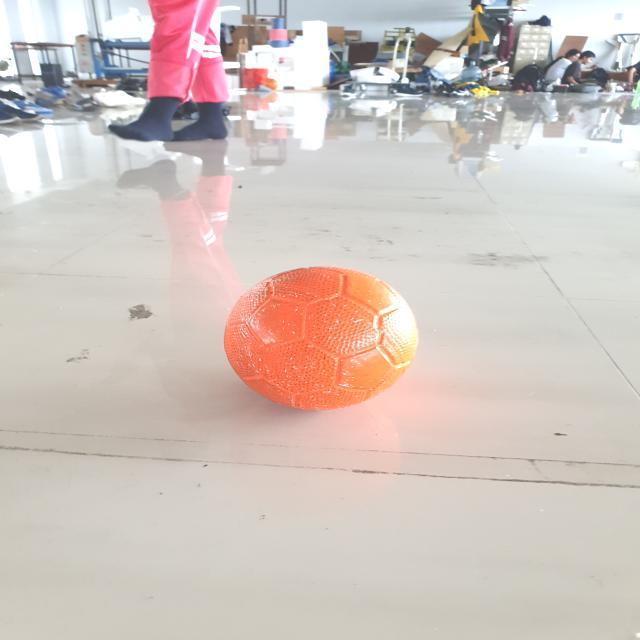bola: (223, 262, 427, 422)
